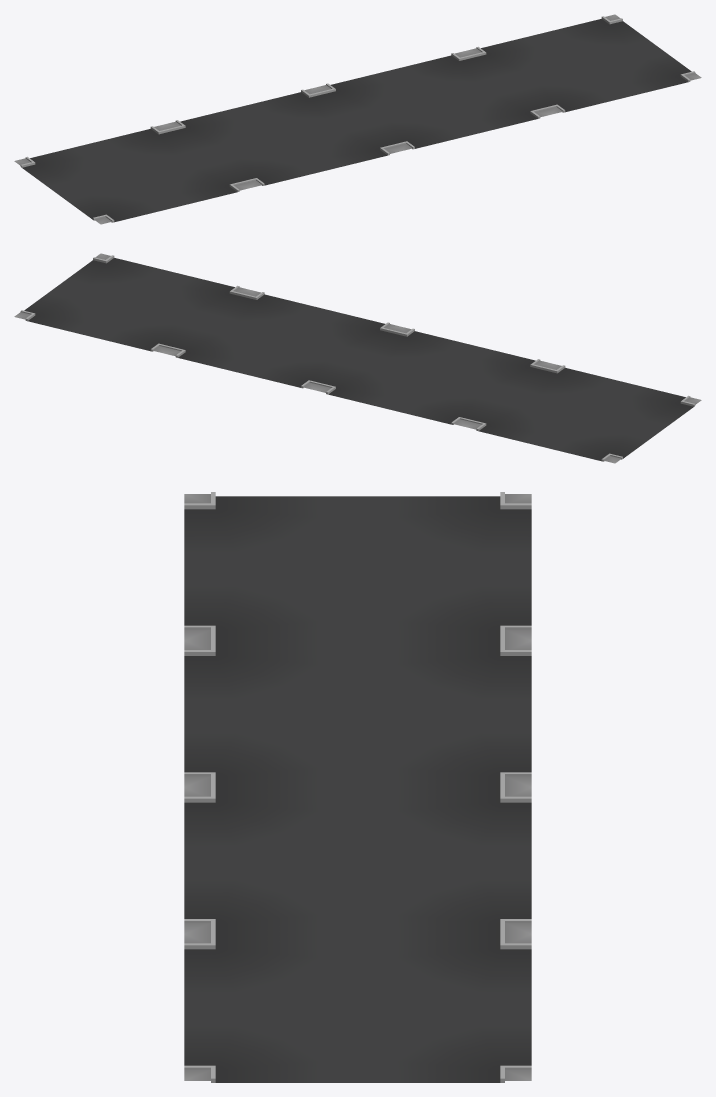
The model's file is road_lane_ew.glb.
The picture shows the model from 3 angles, top to bottom: view 1: azimuth 30°, elevation 25°; view 2: azimuth 150°, elevation 25°; view 3: azimuth 270°, elevation 25°; orthographic projection. The views are drawn at different scales.
Visible parts, largest first — view 1: road_ew_0, road_ew_3, road_ew_1, road_ew_2; view 2: road_ew_0, road_ew_3, road_ew_1, road_ew_2; view 3: road_ew_2, road_ew_1, road_ew_3, road_ew_0.
Part boxes in pixels (x1=…): road_ew_0: x1=14, y1=124, x2=250, y2=224; road_ew_3: x1=465, y1=14, x2=701, y2=114; road_ew_1: x1=164, y1=88, x2=400, y2=187; road_ew_2: x1=315, y1=51, x2=551, y2=150; road_ew_0: x1=465, y1=363, x2=701, y2=463; road_ew_3: x1=14, y1=253, x2=250, y2=353; road_ew_1: x1=315, y1=327, x2=551, y2=426; road_ew_2: x1=164, y1=290, x2=400, y2=389; road_ew_2: x1=184, y1=785, x2=531, y2=936; road_ew_1: x1=184, y1=638, x2=531, y2=789; road_ew_3: x1=184, y1=932, x2=531, y2=1082; road_ew_0: x1=184, y1=492, x2=531, y2=642.
Bounding box in the file's own units: 60 × 0.2 × 15.
Materials: 4 (4 with a texture image).
